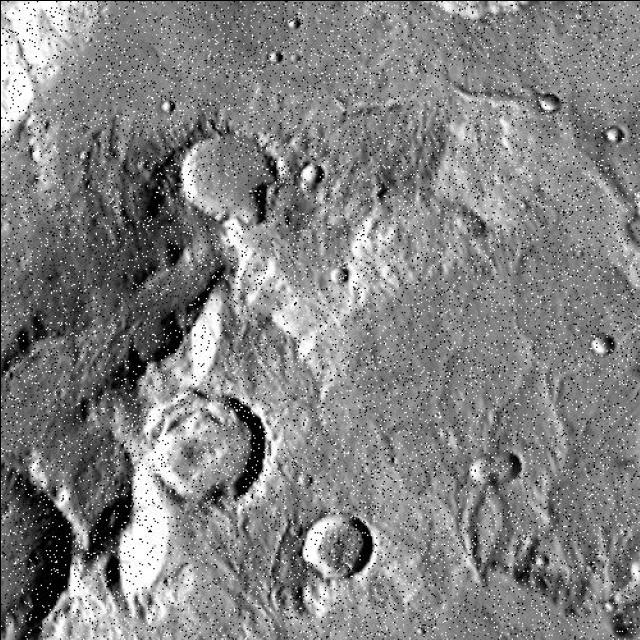crater: (284, 0, 640, 183), (464, 1, 640, 159), (133, 378, 270, 518), (0, 439, 93, 640), (164, 114, 288, 237), (555, 1, 640, 127), (567, 137, 640, 265), (569, 0, 640, 57)
